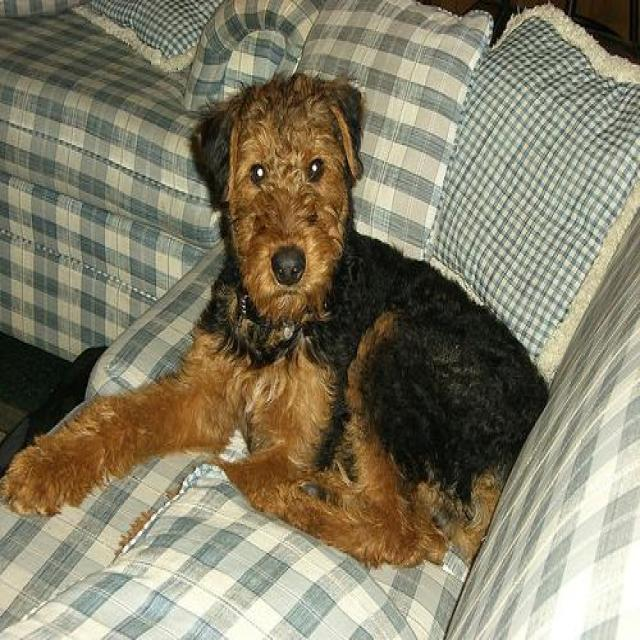airedale: (4, 73, 549, 572)
